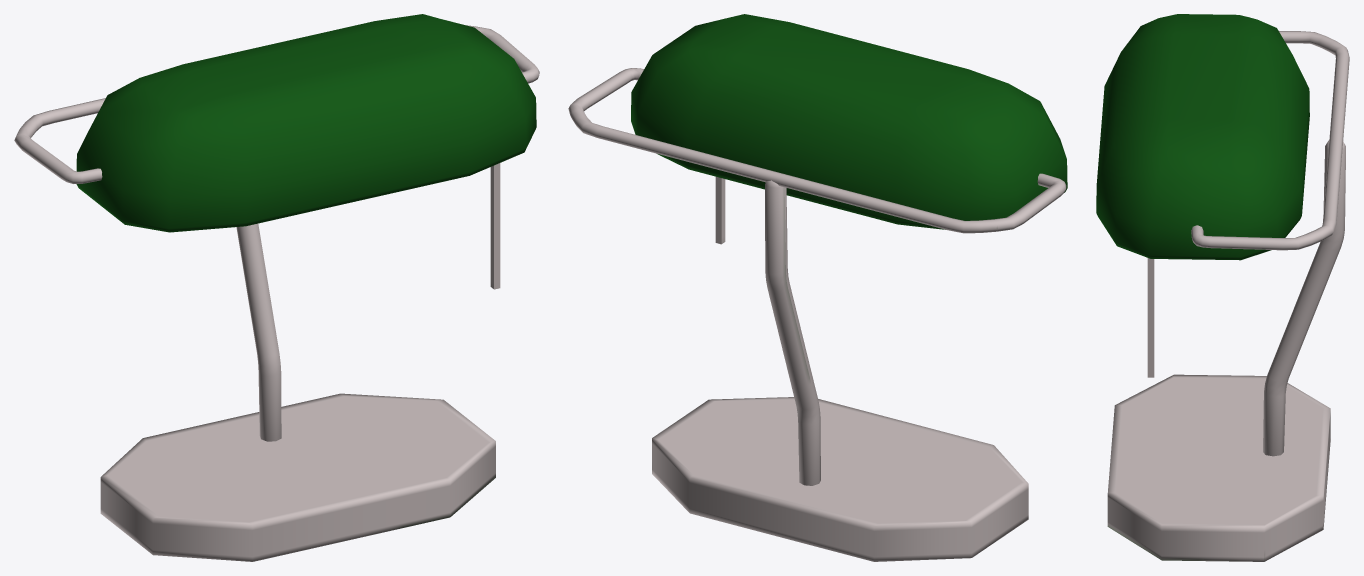
File: s_lamp.fbx
3 views of the same model, side by side, from view 1: azimuth 30°, elevation 25°; view 2: azimuth 150°, elevation 25°; view 3: azimuth 270°, elevation 25° (orthographic). The views are drawn at different scales.
Visible parts, largest first — view 1: Cube.003; view 2: Cube.003; view 3: Cube.003.
Boxes of the visible parts, x1,y1,x2,y2 form: Cube.003: (14,14,539,561); Cube.003: (568,14,1067,561); Cube.003: (1096,14,1349,561).
Bounding box in the file's own units: 50.01 × 44.59 × 25.11.
